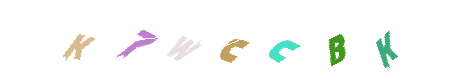7: (99, 0, 179, 80)
B: (297, 0, 377, 80)
C: (195, 0, 275, 80), (249, 0, 329, 80)
K: (71, 0, 151, 80), (343, 0, 423, 80)
W: (186, 0, 266, 80)
